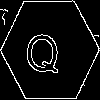Q: (25, 25, 60, 75)
